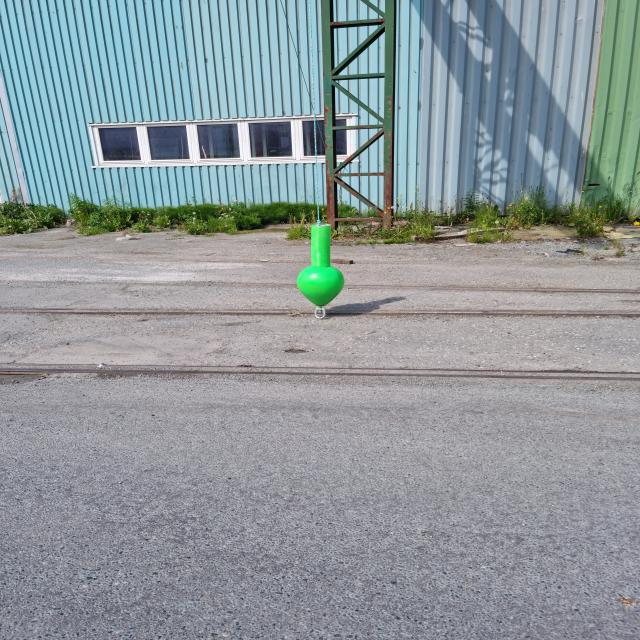green: (298, 226, 344, 306)
